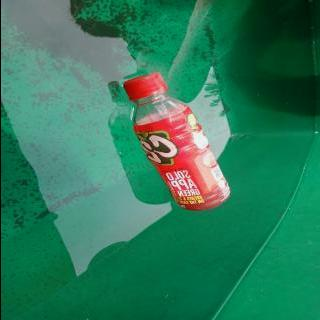bottle: (121, 72, 232, 212)
